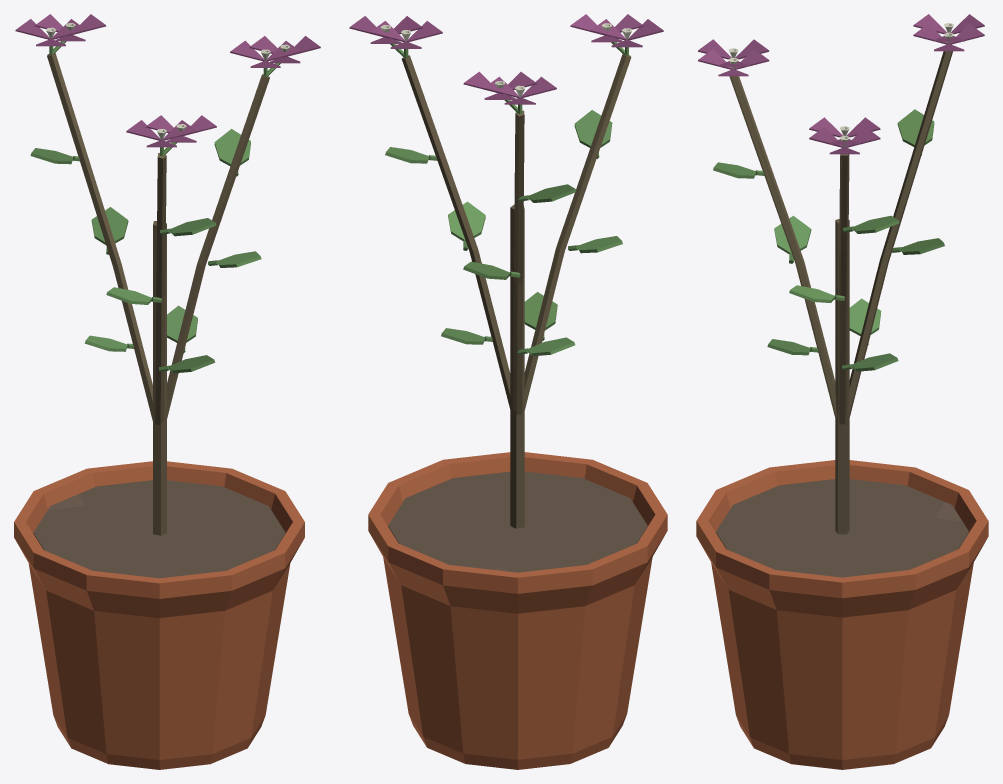
Rendered from bougainvillea.glb.
3 renders of one model, left to right at view 1: azimuth 30°, elevation 25°; view 2: azimuth 150°, elevation 25°; view 3: azimuth 270°, elevation 25°, orthographic. The views are drawn at different scales.
Parts seen in each view (by area): view 1: bougainvillea/review-terra-vessel, bougainvillea/review-rooted-soil, bougainvillea/stem-021, bougainvillea/stem-002, bougainvillea/petiole-001, bougainvillea/stem-040, bougainvillea/leaf-008, bougainvillea/leaf-025, bougainvillea/leaf-004; view 2: bougainvillea/review-terra-vessel, bougainvillea/review-rooted-soil, bougainvillea/stem-040, bougainvillea/stem-002, bougainvillea/petiole-001, bougainvillea/stem-021, bougainvillea/leaf-046, bougainvillea/leaf-006, bougainvillea/leaf-042, bougainvillea/leaf-023, bougainvillea/leaf-027; view 3: bougainvillea/review-terra-vessel, bougainvillea/review-rooted-soil, bougainvillea/stem-021, bougainvillea/stem-040, bougainvillea/petiole-001, bougainvillea/stem-002, bougainvillea/leaf-027, bougainvillea/leaf-044, bougainvillea/leaf-023, bougainvillea/leaf-004, bougainvillea/leaf-008, bougainvillea/leaf-006.
Part boxes in pixels (left/top/right/bottom): bougainvillea/review-terra-vessel: left=14, top=461, right=304, bottom=769; bougainvillea/review-rooted-soil: left=33, top=480, right=285, bottom=578; bougainvillea/stem-021: left=47, top=53, right=152, bottom=420; bougainvillea/stem-002: left=167, top=74, right=269, bottom=418; bougainvillea/petiole-001: left=153, top=221, right=166, bottom=535; bougainvillea/stem-040: left=155, top=153, right=166, bottom=425; bougainvillea/leaf-008: left=214, top=129, right=250, bottom=166; bougainvillea/leaf-025: left=91, top=207, right=128, bottom=244; bougainvillea/leaf-004: left=167, top=305, right=197, bottom=342; bougainvillea/review-terra-vessel: left=368, top=452, right=667, bottom=769; bougainvillea/review-rooted-soil: left=388, top=471, right=647, bottom=572; bougainvillea/stem-040: left=524, top=54, right=631, bottom=410; bougainvillea/stem-002: left=401, top=55, right=510, bottom=408; bougainvillea/petiole-001: left=510, top=204, right=524, bottom=528; bougainvillea/stem-021: left=513, top=110, right=524, bottom=414; bougainvillea/leaf-046: left=574, top=110, right=612, bottom=147; bougainvillea/leaf-006: left=448, top=201, right=485, bottom=240; bougainvillea/leaf-042: left=524, top=292, right=557, bottom=330; bougainvillea/leaf-023: left=527, top=337, right=575, bottom=356; bougainvillea/leaf-027: left=528, top=184, right=576, bottom=202; bougainvillea/review-terra-vessel: left=696, top=460, right=988, bottom=769; bougainvillea/review-rooted-soil: left=716, top=479, right=968, bottom=577; bougainvillea/stem-021: left=848, top=51, right=952, bottom=417; bougainvillea/stem-040: left=729, top=76, right=836, bottom=418; bougainvillea/petiole-001: left=835, top=219, right=849, bottom=534; bougainvillea/stem-002: left=838, top=154, right=849, bottom=424; bougainvillea/leaf-027: left=897, top=109, right=934, bottom=146; bougainvillea/leaf-044: left=774, top=215, right=811, bottom=253; bougainvillea/leaf-023: left=849, top=298, right=881, bottom=335; bougainvillea/leaf-004: left=851, top=353, right=898, bottom=371; bougainvillea/leaf-008: left=852, top=215, right=899, bottom=233; bougainvillea/leaf-006: left=789, top=285, right=835, bottom=302.
Bounding box in the file's own units: 0.3012 × 0.688 × 0.27.
7 materials, 7 textured.
